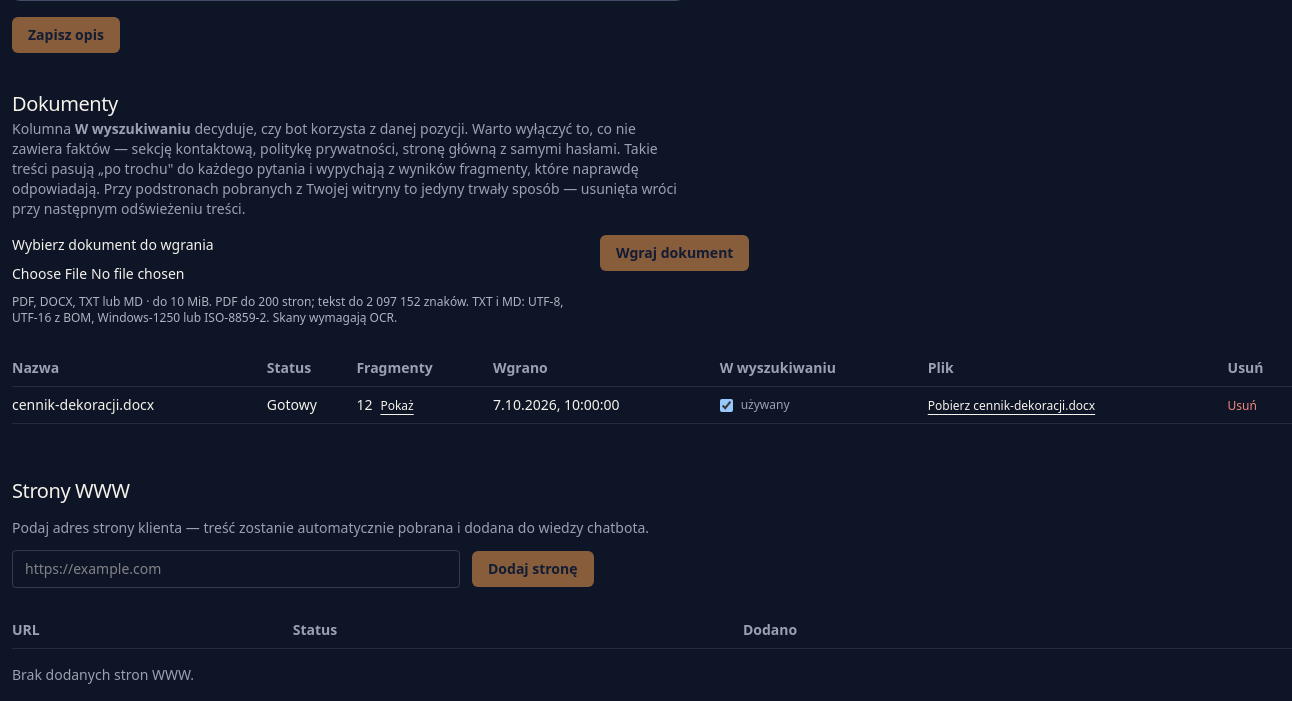
Test: błąd pobrania fragmentów jest widoczny, a nie pustą listą
(page scrolled)
Expected: the text "cennik-dekoracji.docx" is shown, [12,387,267,424]
Click the button with aria-label "Pokaż fragmenty".
click(397, 406)  # box [380,398,414,414]
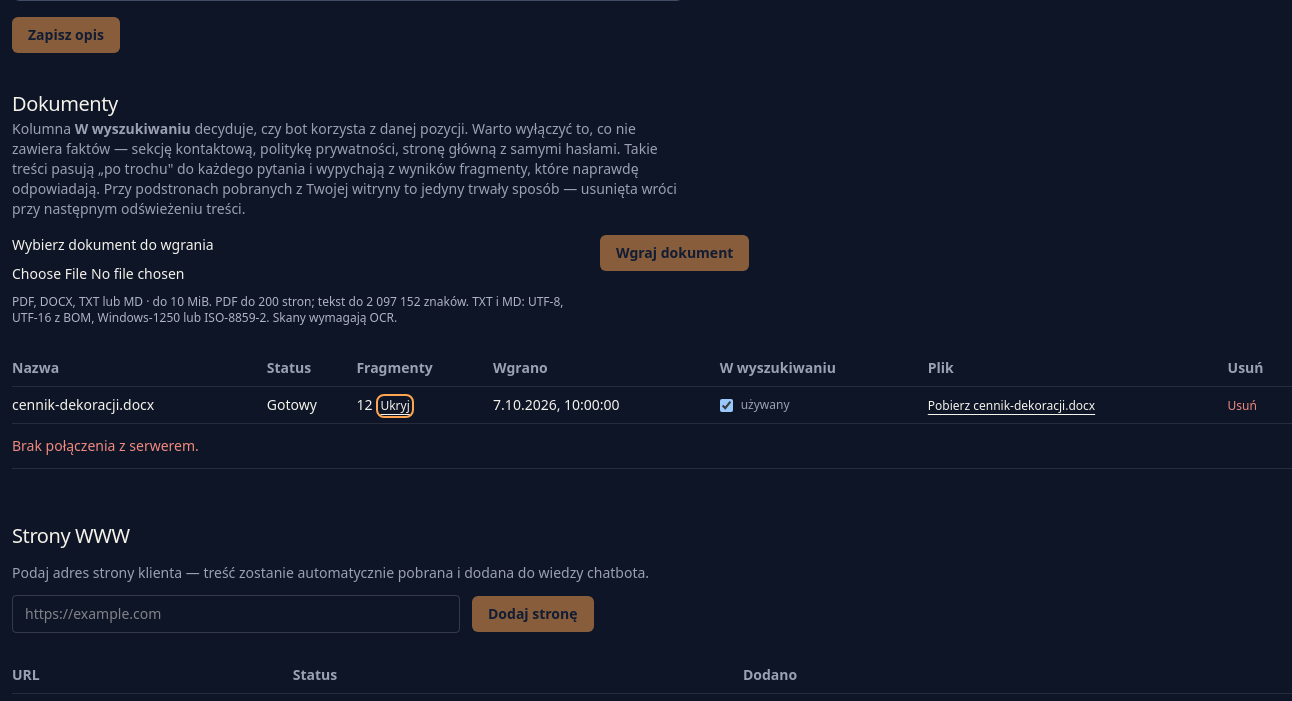
Expected: the message reads "Brak połączenia z serwerem.", [12,436,199,455]
